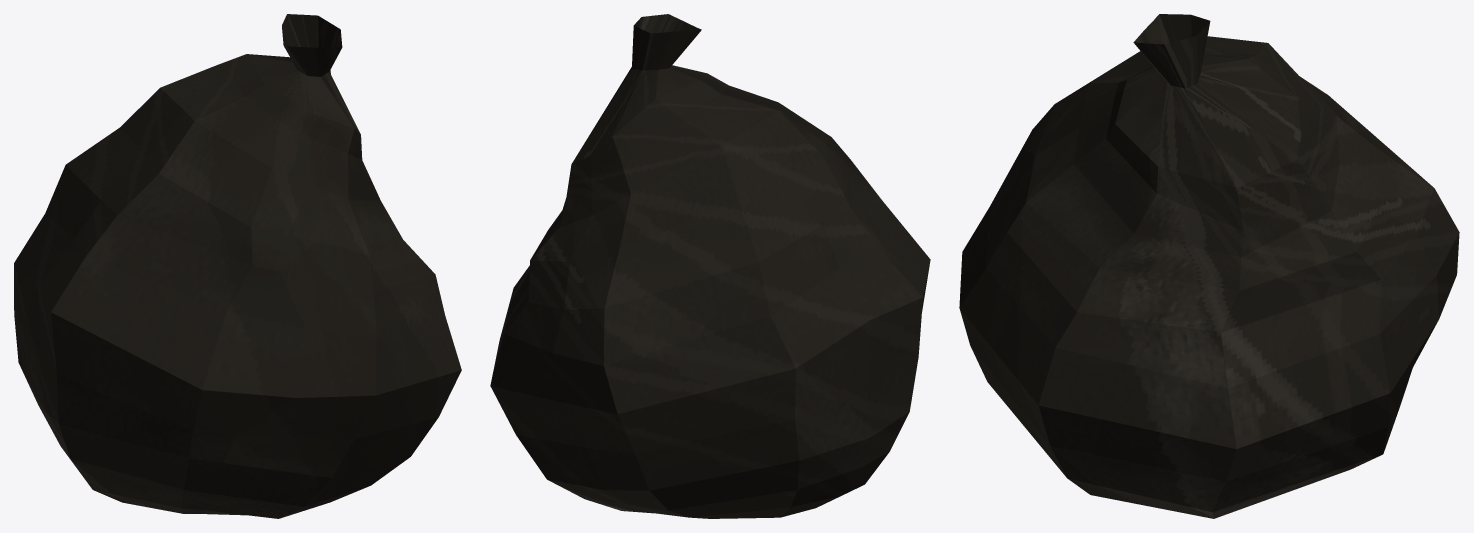
The model's file is SM_canbag.fbx.
3 views of the same model, side by side, from view 1: azimuth 30°, elevation 25°; view 2: azimuth 150°, elevation 25°; view 3: azimuth 270°, elevation 25° (orthographic). The views are drawn at different scales.
Visible parts, largest first — view 1: SM_trash.001; view 2: SM_trash.001; view 3: SM_trash.001.
Part boxes in pixels (left/top/right/bottom): SM_trash.001: left=14, top=14, right=461, bottom=518; SM_trash.001: left=490, top=14, right=930, bottom=518; SM_trash.001: left=959, top=14, right=1459, bottom=518.
Size of the model in its own units: 57.77 by 64.03 by 59.64.
